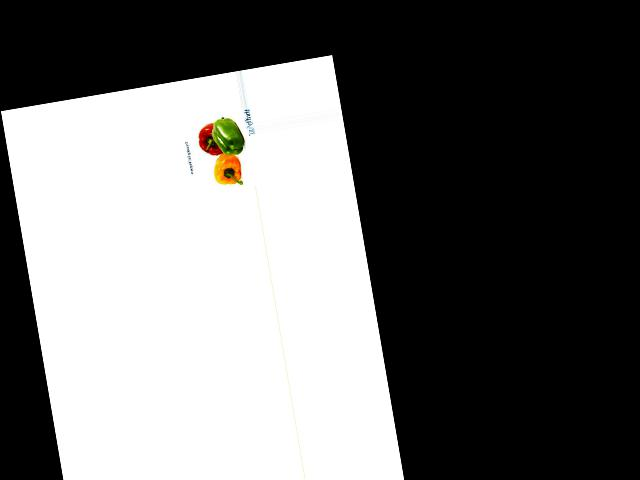bell_pepper: (210, 113, 250, 160)
